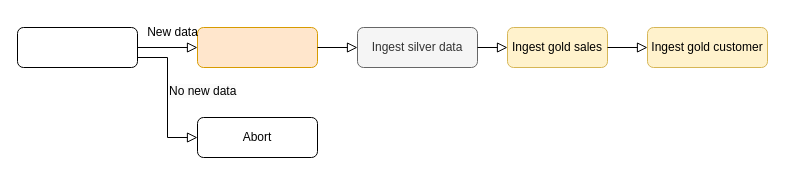
This 785x175 diagram has some shape labels left out. The shapes that lost their labels are listed below. From the top down, each one's box as (x1, y1, x2, y2) in pixels, then its label:
(16, 26, 138, 68): Check for new raw data
(196, 26, 318, 68): Ingest bronze data
